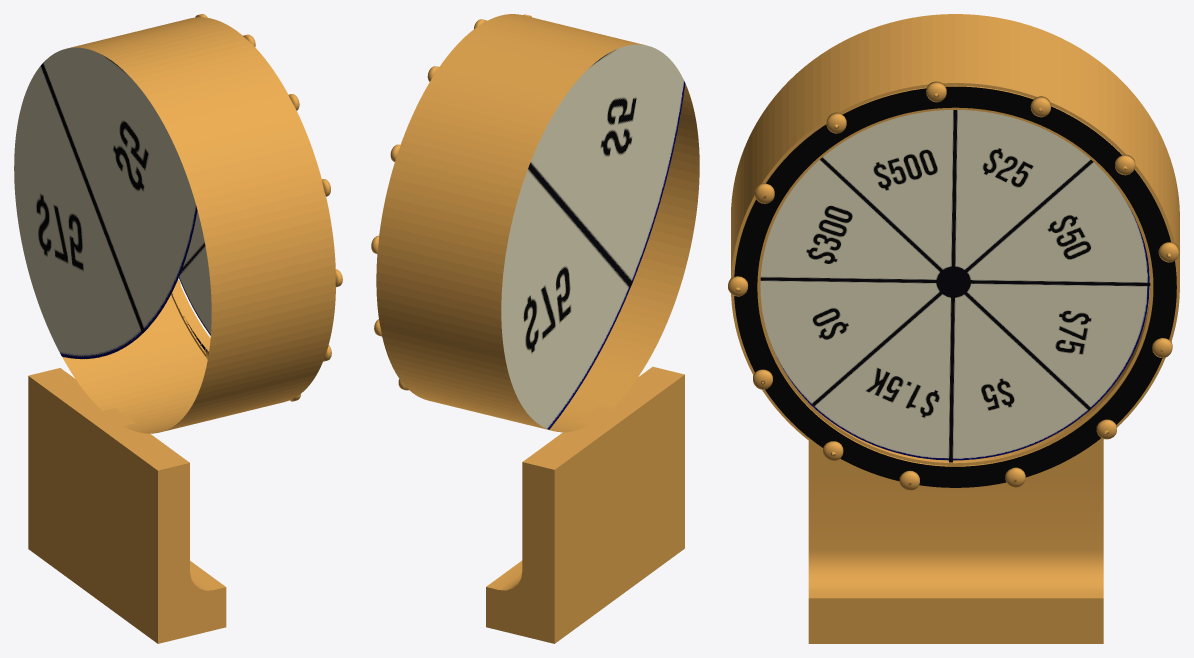
The model's file is Wheel_Sliced 1.fbx.
The picture shows the model from 3 angles, left to right: view 1: azimuth 30°, elevation 25°; view 2: azimuth 150°, elevation 25°; view 3: azimuth 270°, elevation 25°; orthographic projection. The views are drawn at different scales.
Parts seen in each view (by area): view 1: Cylinder, Cube, Circle.005, Cylinder.002, Circle.004; view 2: Cylinder, Cube, Cylinder.002; view 3: Cylinder, Cube, Circle.005, Circle.004, Circle.006, Circle.003, Circle.007, Circle.002, Circle.008, Circle.001, Cylinder.002.
Part boxes in pixels (<box>): Cylinder: <box>14,17,335,433</box>; Cube: <box>28,368,226,643</box>; Circle.005: <box>179,247,211,335</box>; Cylinder.002: <box>171,14,342,401</box>; Circle.004: <box>179,210,205,278</box>; Cylinder: <box>376,14,699,432</box>; Cube: <box>486,366,684,643</box>; Cylinder.002: <box>371,14,531,390</box>; Cylinder: <box>731,14,1179,489</box>; Cube: <box>808,439,1103,643</box>; Circle.005: <box>945,283,1086,462</box>; Circle.004: <box>953,282,1149,412</box>; Circle.006: <box>809,283,953,460</box>; Circle.003: <box>954,163,1150,289</box>; Circle.007: <box>760,275,952,402</box>; Circle.002: <box>953,110,1094,281</box>; Circle.008: <box>761,156,952,282</box>; Circle.001: <box>824,110,960,281</box>; Cylinder.002: <box>728,81,1178,490</box>.
Bounding box in the file's own units: 667 × 2225 × 1508.
3 materials, 1 textured.
